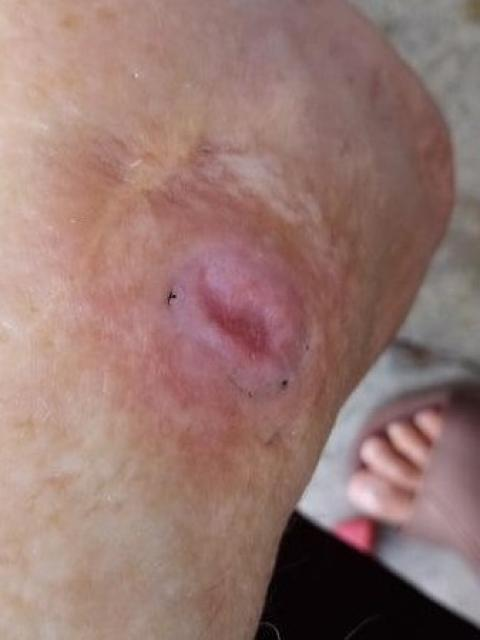wound: (163, 246, 311, 413)
